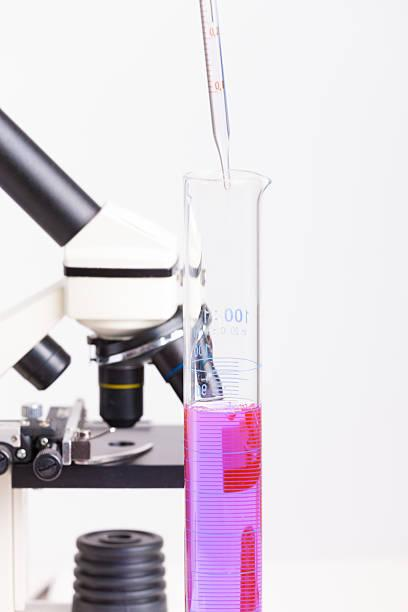Test tube: (160, 159, 282, 597)
